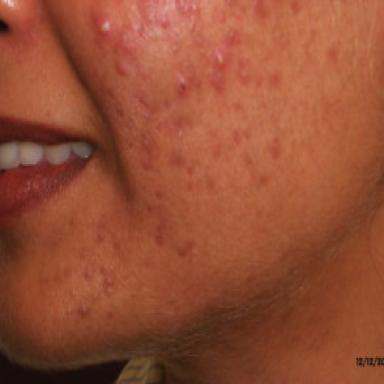acne: (209, 28, 239, 92), (176, 0, 204, 45), (93, 10, 112, 36), (176, 69, 195, 94), (239, 59, 251, 83), (115, 57, 131, 74), (103, 274, 114, 294), (159, 14, 170, 29), (78, 304, 89, 316), (85, 265, 94, 277), (96, 232, 104, 241), (220, 11, 226, 22)
